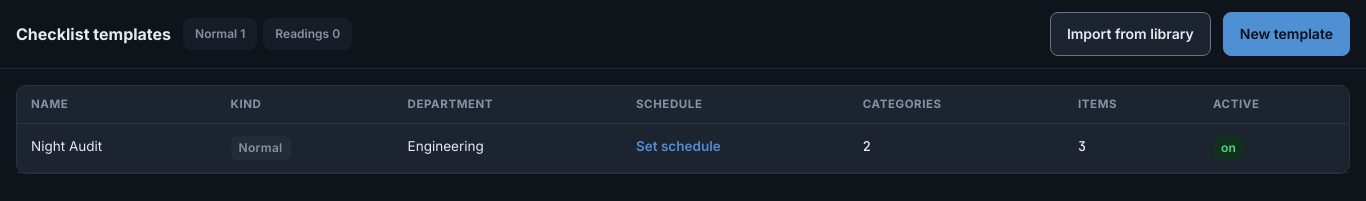
Test: ChecklistTemplatesAdmin › names the active kind filter in the empty state when it hides every row
This screenshot has width=1366, height=201.
Check: the text "Night Audit" is shown, box [17, 124, 217, 173]
Click the button "Readings 0" at [308, 34], box [263, 18, 352, 50]
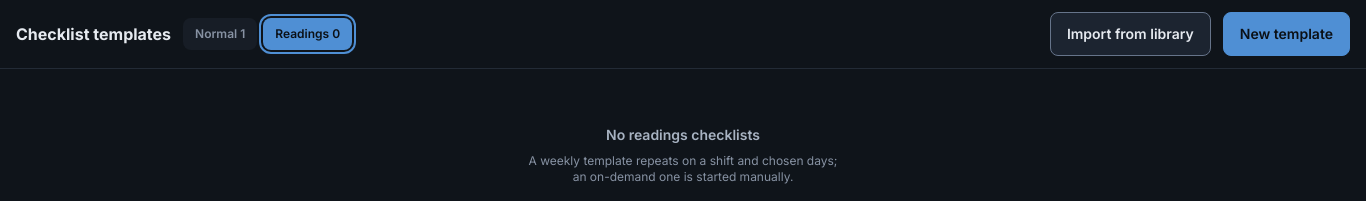
Check: the text "No readings checklists" is shown, box [606, 125, 760, 145]
